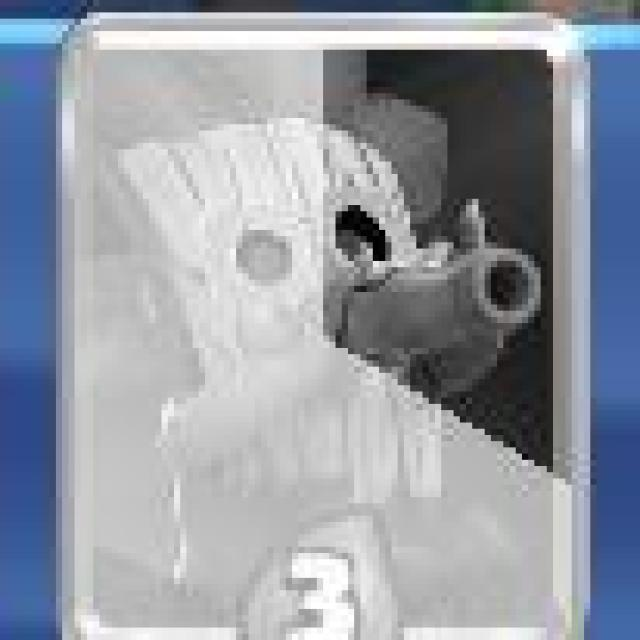Dart_Goblin: (55, 8, 591, 640)
